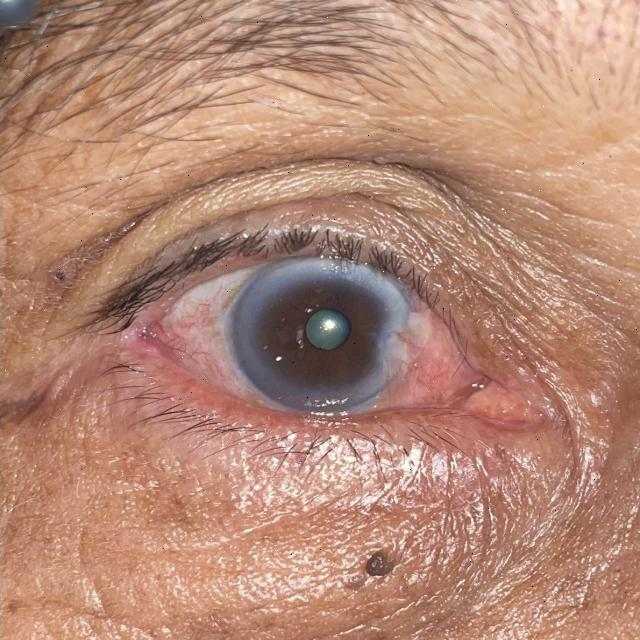Cataract: (235, 251, 409, 416)
